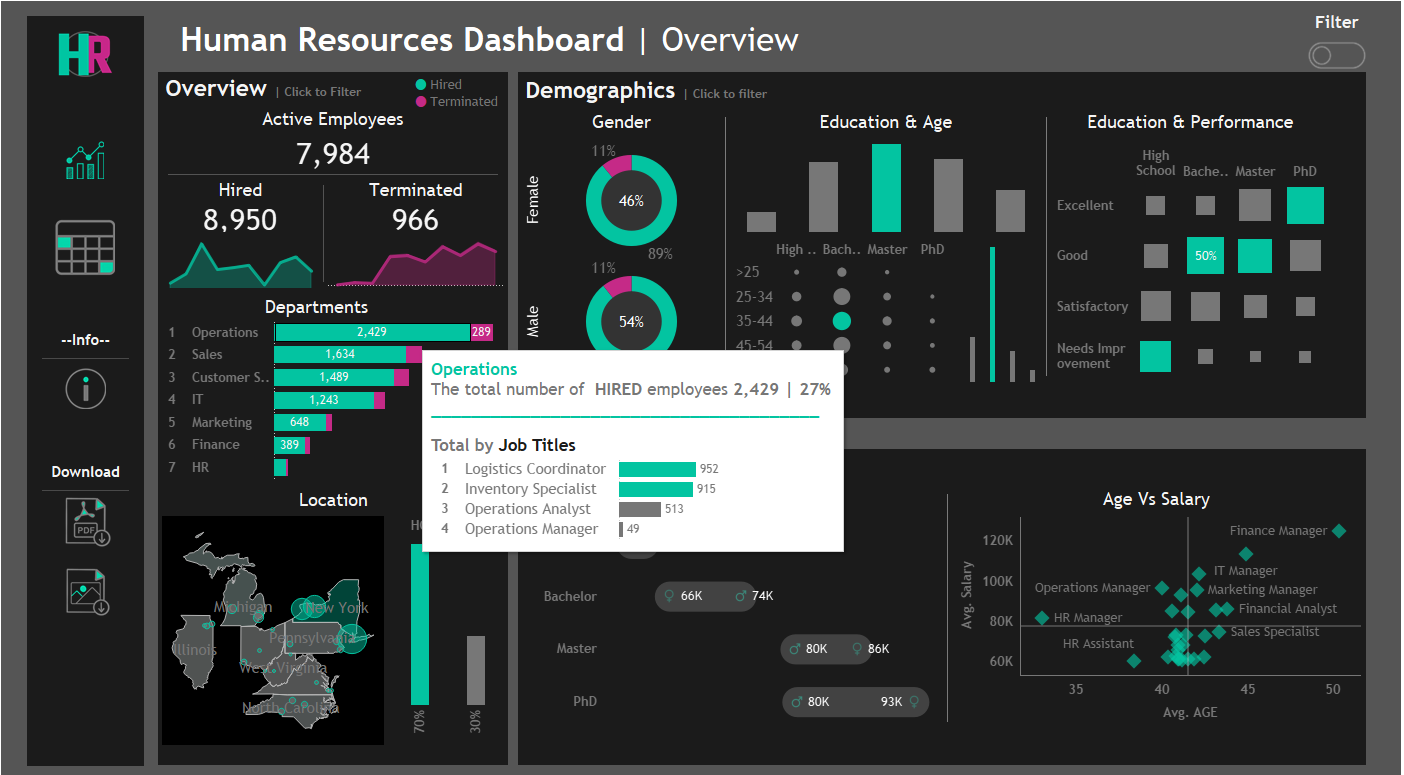

What the dashboard file says about the page in this screenshot:
{"tool":"tableau","page":{"name":"HR | Summary (3)","canvas":[1400,800],"ordinal":3},"visuals":[{"type":"blank","box":[7,7,130,393]},{"type":"text","box":[143,7,676,64]},{"type":"blank","box":[819,7,536,64]},{"type":"text","box":[149,77,352,32]},{"type":"text","box":[509,79,838,35]},{"type":"text","box":[149,109,352,29]},{"type":"text","box":[511,116,207,29]},{"type":"blank","box":[718,116,25,246]},{"type":"text","box":[743,116,261,29]},{"type":"blank","box":[1004,116,25,246]},{"type":"text","box":[1029,116,316,29]},{"type":"worksheet","title":"Active","mark":"Text","box":[149,138,352,41]},{"type":"worksheet","title":"Gender","mark":"Pie","rows":["Gender"],"cols":["Calculation_1937110846429085710","Calculation_1937110846429085710"],"box":[511,145,207,217]},{"type":"worksheet","title":"Age Group","mark":"Bar","rows":["Calculation_1937110846402056192"],"cols":["Calculation_1937110846440509456"],"box":[743,145,261,100]},{"type":"worksheet","title":"Education VS Performance","mark":"Square","rows":["Performance Rating"],"cols":["Education Level"],"box":[1029,145,316,217]},{"type":"blank","box":[149,179,352,25]},{"type":"text","box":[151,206,165,29]},{"type":"blank","box":[316,206,17,113]},{"type":"text","box":[333,206,166,29]},{"type":"worksheet","title":"HIRED","mark":"Text","box":[151,235,165,32]},{"type":"worksheet","title":"Terminated","mark":"Text","box":[333,235,166,32]},{"type":"worksheet","title":"Age VS Education","mark":"Pie","rows":["Calculation_1937110846440509456"],"cols":["Education Level"],"box":[743,245,152.5,117]},{"type":"worksheet","title":"Education Level","mark":"Bar","rows":["Calculation_1937110846402056192"],"cols":["Education Level"],"box":[895.5,245,108.5,117]},{"type":"worksheet","title":"Hired by Years","mark":"Line","rows":["Calculation_1937110846402056192","Calculation_1937110846402056192"],"cols":["Hiredate"],"box":[151,267,165,52]},{"type":"worksheet","title":"Terminated by Years","mark":"Line","rows":["Calculation_1937110846402326529","Calculation_1937110846402326529"],"cols":["Termdate"],"box":[333,267,166,52]},{"type":"blank","box":[149,321,118.7,25]},{"type":"text","box":[267.7,321,114.7,25]},{"type":"blank","box":[382.3,321,118.7,25]},{"type":"worksheet","title":"Departments","mark":"Bar","rows":["Calculation_1937110846415405062","Department"],"cols":["Calculation_1937110846402056192"],"box":[149,346,352,166]},{"type":"blank","box":[7,400,130,393]},{"type":"text","box":[509,415,838,35]},{"type":"text","box":[511,452,410.5,29]},{"type":"blank","box":[921.5,452,25,220]},{"type":"text","box":[946.5,452,398.5,29]},{"type":"worksheet","title":"Education VS Gender Level","mark":"Square","rows":["Education Level"],"cols":["Salary","Salary"],"box":[511,481,410.5,191]},{"type":"worksheet","title":"Age VS Salary","mark":"Shape","rows":["Salary"],"cols":["Calculation_1937110846439919631"],"box":[946.5,481,398.5,191]},{"type":"blank","box":[149,512,120,24]},{"type":"text","box":[269,512,112,24]},{"type":"blank","box":[381,512,120,24]},{"type":"worksheet","title":"MAP STATE","mark":"Automatic","box":[149,536,292,222]},{"type":"worksheet","title":"Location","mark":"Bar","rows":["Calculation_1937110846402056192"],"cols":["Calculation_1937110846422126599","Calculation1"],"box":[441,536,60,222]}]}

Visuals, with their boxes on the page's 1400x800 design canvas (x1, y1, x2, y2). These are canvas units, not pixel positions in the 1404x775 screenshot, which may show the page scaled, cropped or inside an application window:
blank: (x1=7, y1=7, x2=137, y2=400)
text: (x1=143, y1=7, x2=819, y2=71)
blank: (x1=819, y1=7, x2=1355, y2=71)
text: (x1=149, y1=77, x2=501, y2=109)
text: (x1=509, y1=79, x2=1347, y2=114)
text: (x1=149, y1=109, x2=501, y2=138)
text: (x1=511, y1=116, x2=718, y2=145)
blank: (x1=718, y1=116, x2=743, y2=362)
text: (x1=743, y1=116, x2=1004, y2=145)
blank: (x1=1004, y1=116, x2=1029, y2=362)
text: (x1=1029, y1=116, x2=1345, y2=145)
"Active" worksheet (Text marks): (x1=149, y1=138, x2=501, y2=179)
"Gender" worksheet (Pie marks): (x1=511, y1=145, x2=718, y2=362)
"Age Group" worksheet (Bar marks): (x1=743, y1=145, x2=1004, y2=245)
"Education VS Performance" worksheet (Square marks): (x1=1029, y1=145, x2=1345, y2=362)
blank: (x1=149, y1=179, x2=501, y2=204)
text: (x1=151, y1=206, x2=316, y2=235)
blank: (x1=316, y1=206, x2=333, y2=319)
text: (x1=333, y1=206, x2=499, y2=235)
"HIRED" worksheet (Text marks): (x1=151, y1=235, x2=316, y2=267)
"Terminated" worksheet (Text marks): (x1=333, y1=235, x2=499, y2=267)
"Age VS Education" worksheet (Pie marks): (x1=743, y1=245, x2=896, y2=362)
"Education Level" worksheet (Bar marks): (x1=896, y1=245, x2=1004, y2=362)
"Hired by Years" worksheet (Line marks): (x1=151, y1=267, x2=316, y2=319)
"Terminated by Years" worksheet (Line marks): (x1=333, y1=267, x2=499, y2=319)
blank: (x1=149, y1=321, x2=268, y2=346)
text: (x1=268, y1=321, x2=382, y2=346)
blank: (x1=382, y1=321, x2=501, y2=346)
"Departments" worksheet (Bar marks): (x1=149, y1=346, x2=501, y2=512)
blank: (x1=7, y1=400, x2=137, y2=793)
text: (x1=509, y1=415, x2=1347, y2=450)
text: (x1=511, y1=452, x2=922, y2=481)
blank: (x1=922, y1=452, x2=946, y2=672)
text: (x1=946, y1=452, x2=1345, y2=481)
"Education VS Gender Level" worksheet (Square marks): (x1=511, y1=481, x2=922, y2=672)
"Age VS Salary" worksheet (Shape marks): (x1=946, y1=481, x2=1345, y2=672)
blank: (x1=149, y1=512, x2=269, y2=536)
text: (x1=269, y1=512, x2=381, y2=536)
blank: (x1=381, y1=512, x2=501, y2=536)
"MAP STATE" worksheet: (x1=149, y1=536, x2=441, y2=758)
"Location" worksheet (Bar marks): (x1=441, y1=536, x2=501, y2=758)
